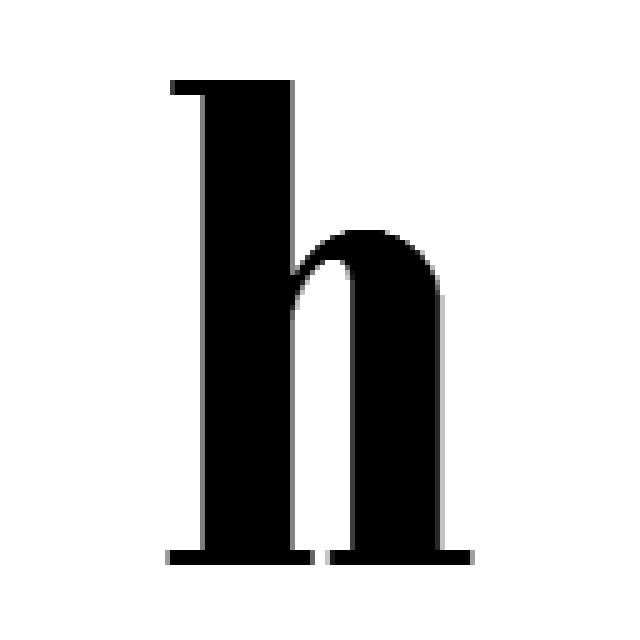H: (165, 80, 470, 570)
